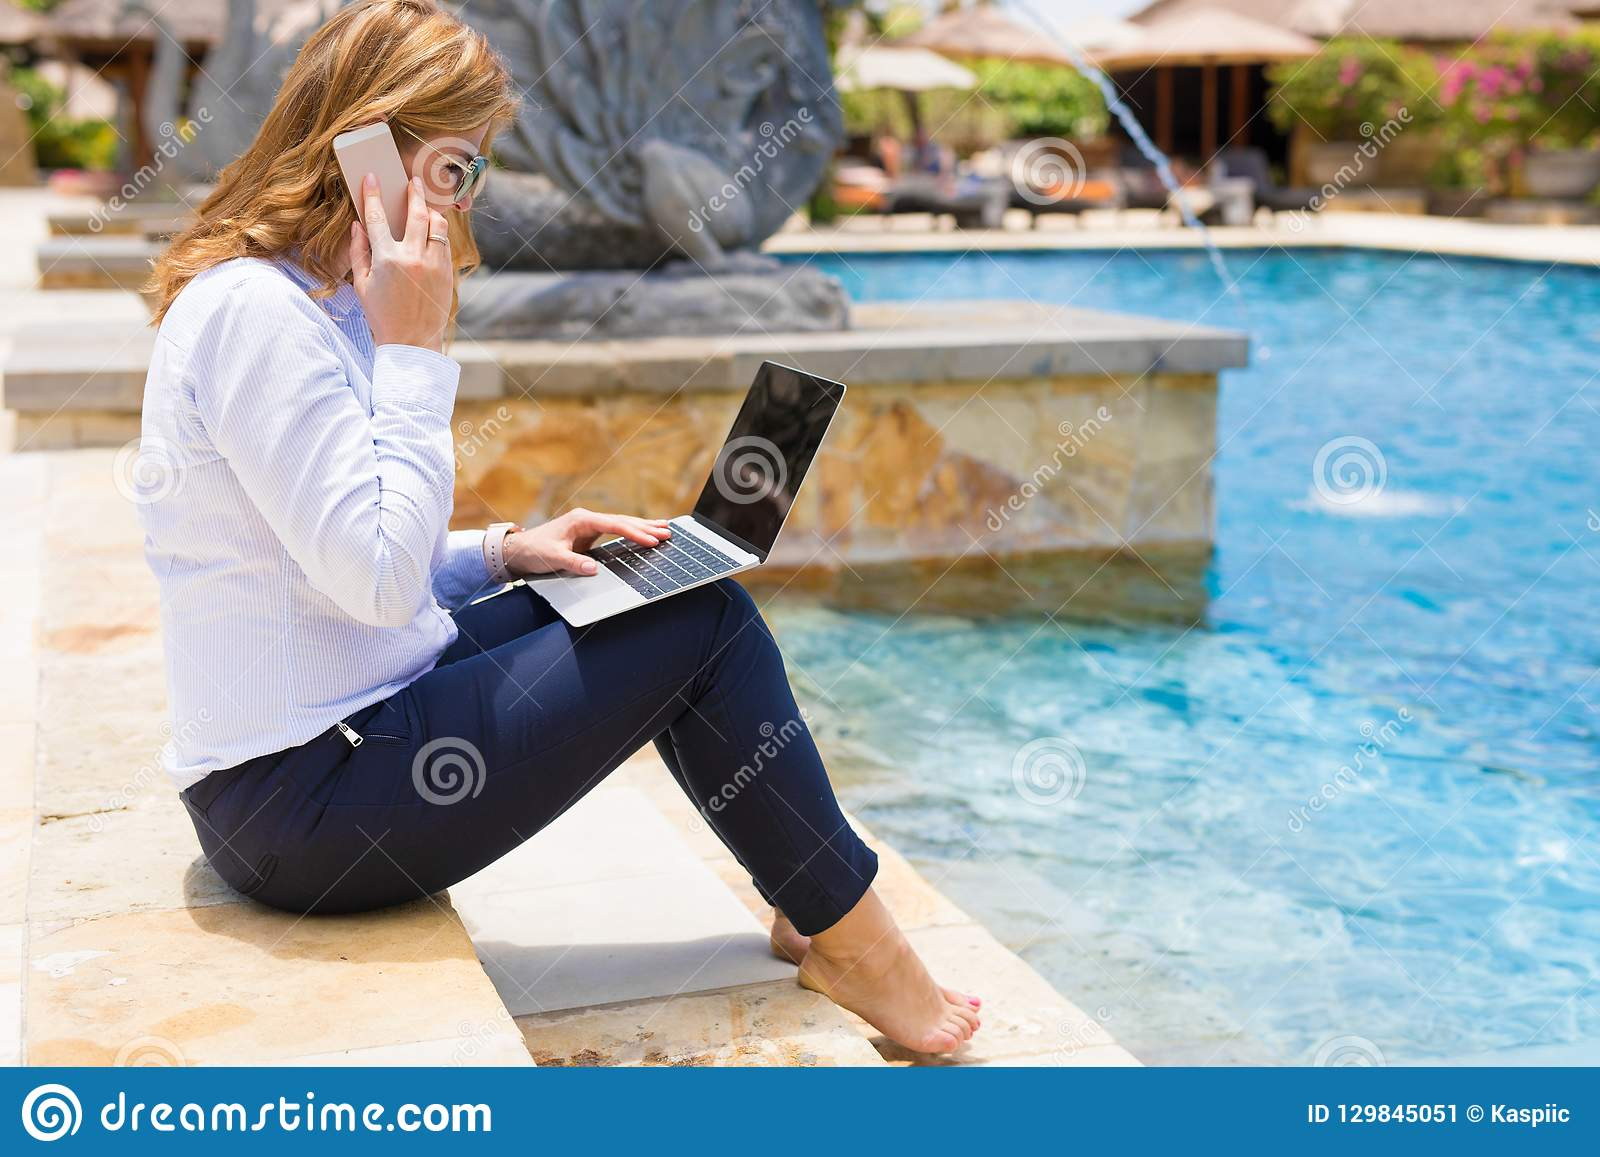phone: (334, 126, 421, 256)
talk: (330, 121, 480, 342)
